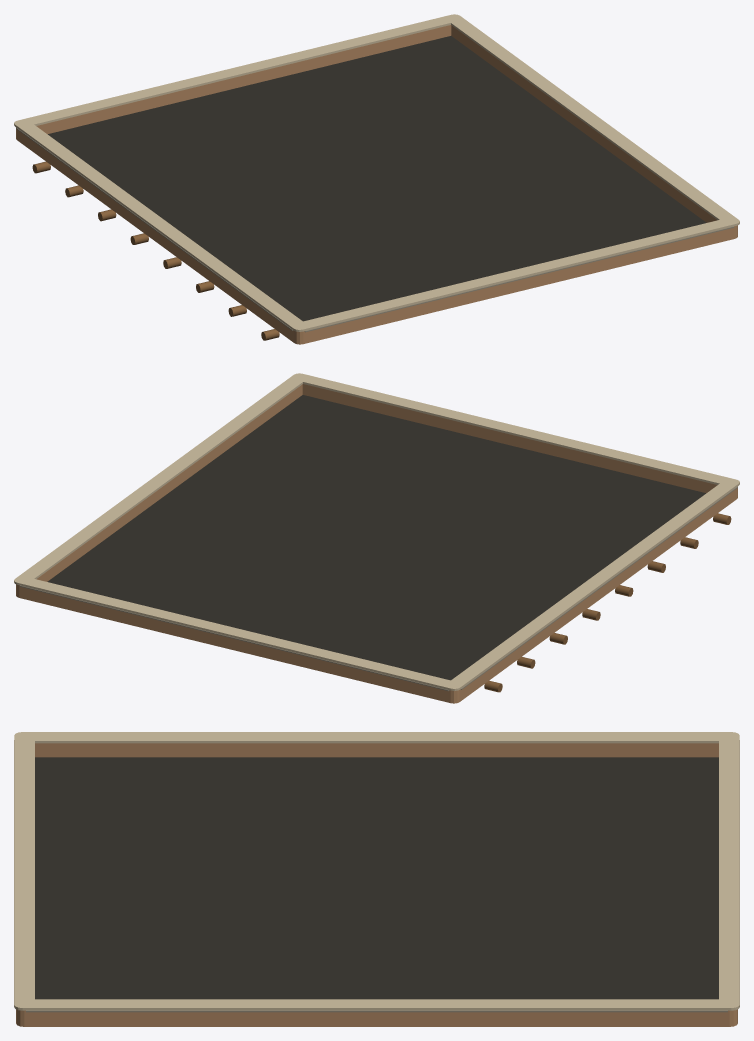
File: SM_Homes_H01_Roof_LOD1.fbx
3 renders of one model, top to bottom at view 1: azimuth 30°, elevation 25°; view 2: azimuth 150°, elevation 25°; view 3: azimuth 270°, elevation 25°, orthographic. The views are drawn at different scales.
Parts seen in each view (by area): view 1: SM_Homes_H01_Roof_LOD1; view 2: SM_Homes_H01_Roof_LOD1; view 3: SM_Homes_H01_Roof_LOD1.
Boxes of the visible parts, box(x1,y1,x2,y2) form: SM_Homes_H01_Roof_LOD1: box(14, 14, 739, 344); SM_Homes_H01_Roof_LOD1: box(14, 373, 739, 703); SM_Homes_H01_Roof_LOD1: box(14, 732, 739, 1026).
Bounding box in the file's own units: 9.26 × 10.06 × 0.475.
